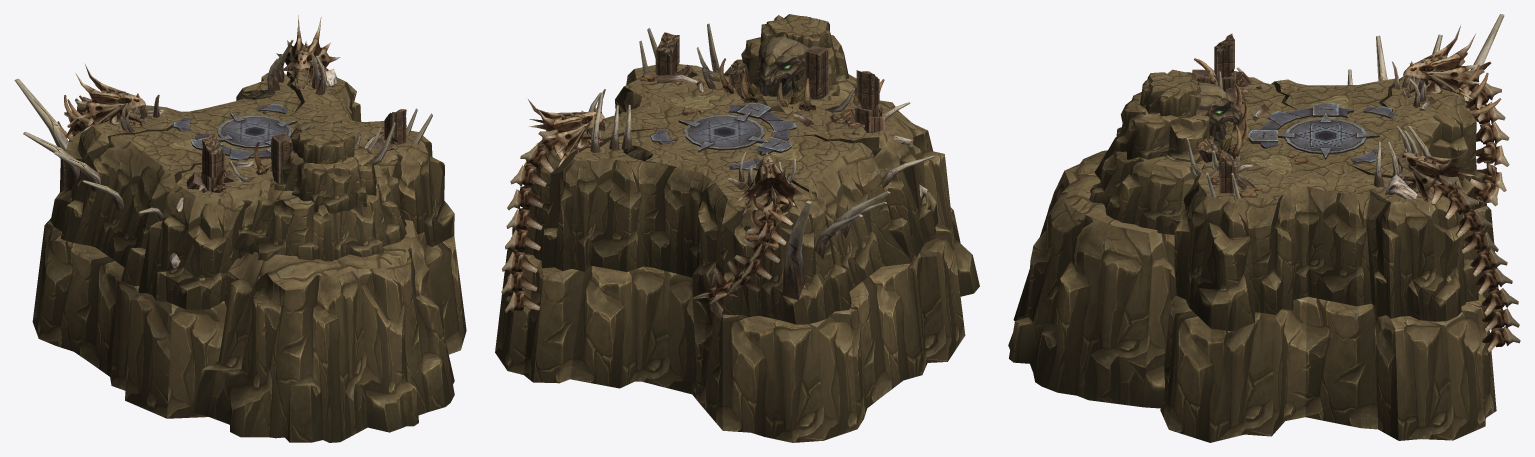
File: Cell3LR.fbx
3 renders of one model, left to right at view 1: azimuth 30°, elevation 25°; view 2: azimuth 150°, elevation 25°; view 3: azimuth 270°, elevation 25°, orthographic. The views are drawn at different scales.
Parts seen in each view (by area): view 1: polySurface1; view 2: polySurface1; view 3: polySurface1.
Part boxes in pixels (bbox=[...]): polySurface1: bbox=[14, 15, 466, 442]; polySurface1: bbox=[495, 14, 979, 442]; polySurface1: bbox=[1008, 14, 1520, 442].
Bounding box in the file's own units: 22.27 × 15.67 × 26.34.
